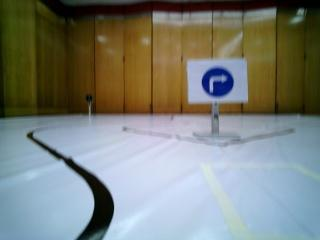right: (189, 62, 246, 102)
